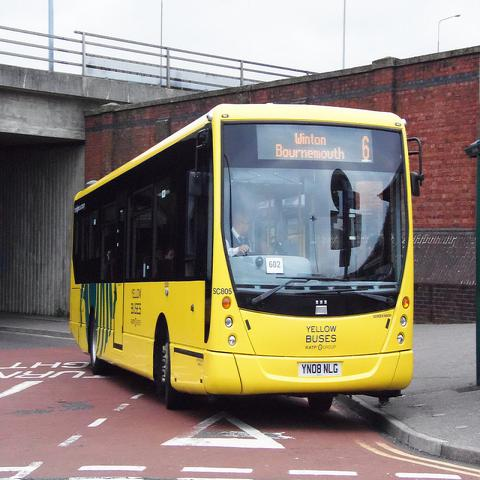bus: (69, 106, 425, 415)
